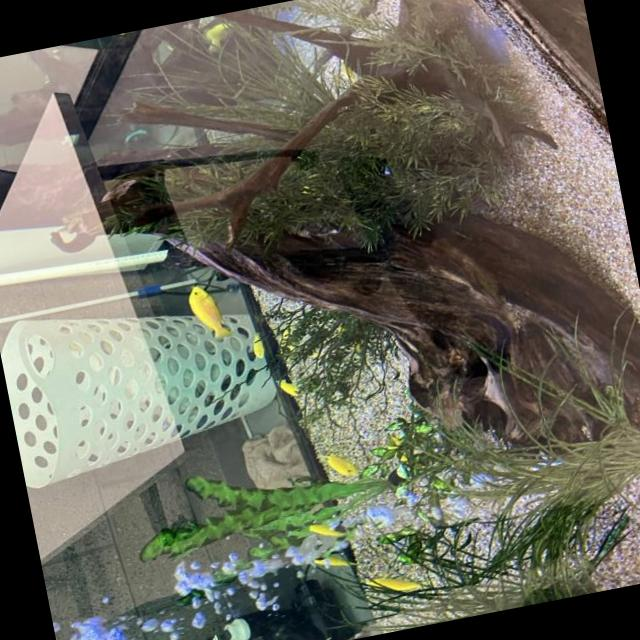YellowCichlid: (178, 278, 240, 349), (320, 442, 368, 483), (368, 564, 410, 604), (309, 546, 360, 578), (300, 516, 357, 544), (240, 330, 274, 374), (271, 372, 305, 399)
